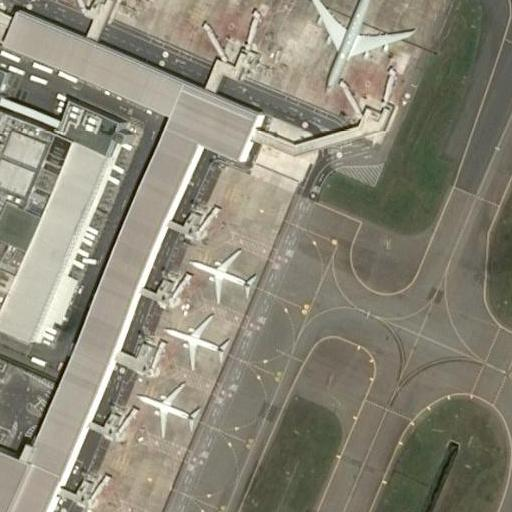Aircraft: (302, 0, 409, 95), (304, 0, 413, 91), (187, 245, 259, 304), (161, 311, 231, 370), (134, 379, 201, 438), (190, 248, 251, 306), (163, 314, 224, 372), (138, 381, 196, 437)
